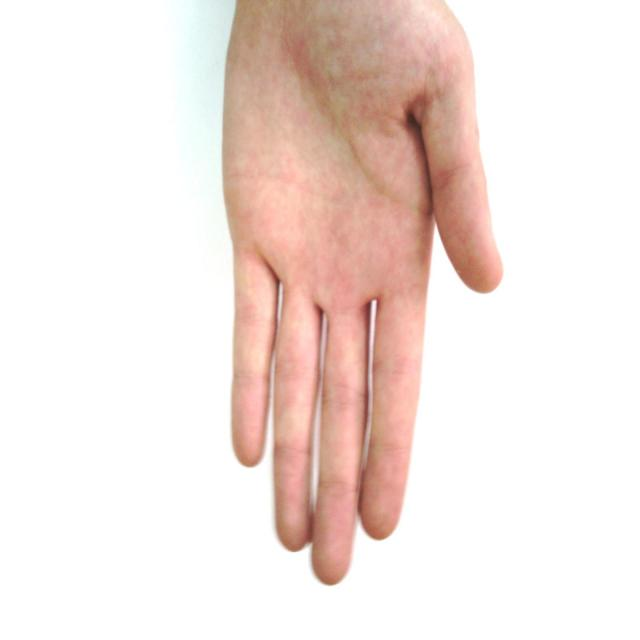others: (202, 1, 520, 584)
